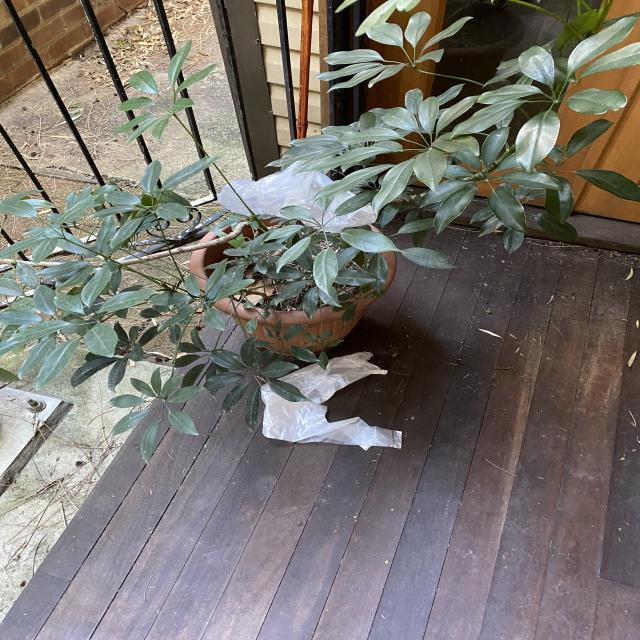bag: (237, 348, 411, 450)
